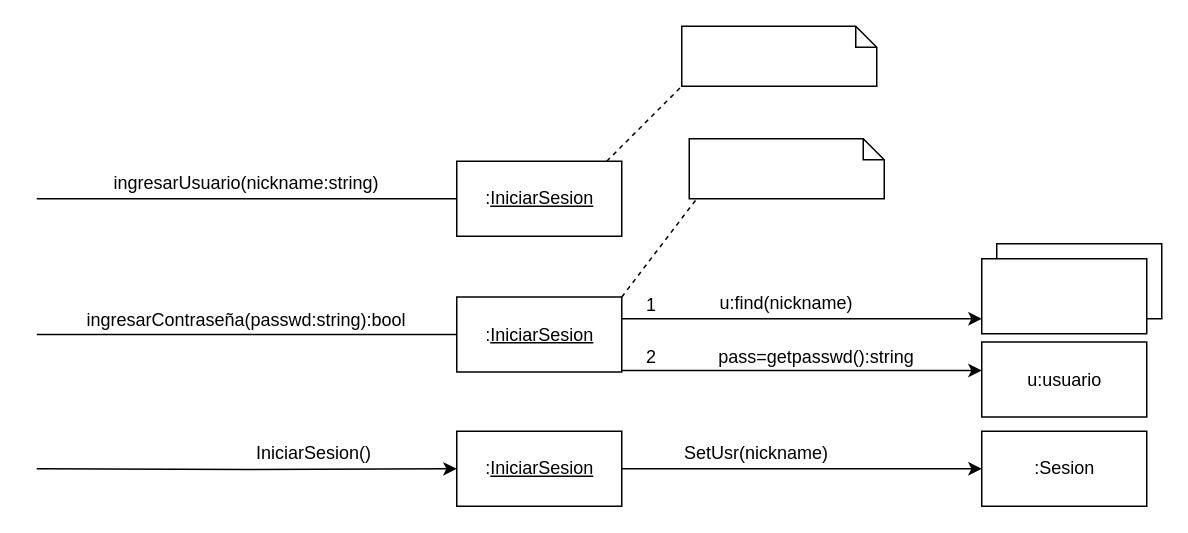
The diagram is 1188 pixels wide and 533 high, and some of its shapes have lost their labels. Each missing label, with the centre of its shape:
:Usuario: point 1063,295
Recuerda nickname: point 778,55
Return pass==password: point 786,168
